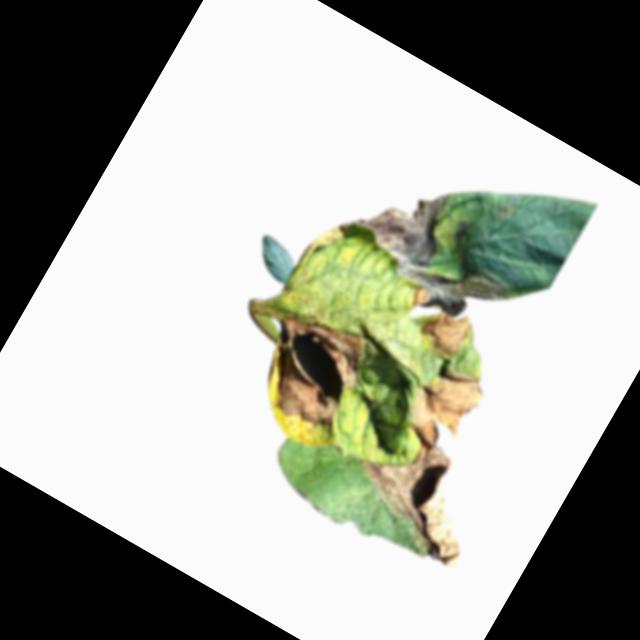Late_blight: (332, 159, 539, 342), (330, 414, 503, 574), (243, 299, 380, 438), (394, 350, 492, 453), (416, 300, 476, 361)
